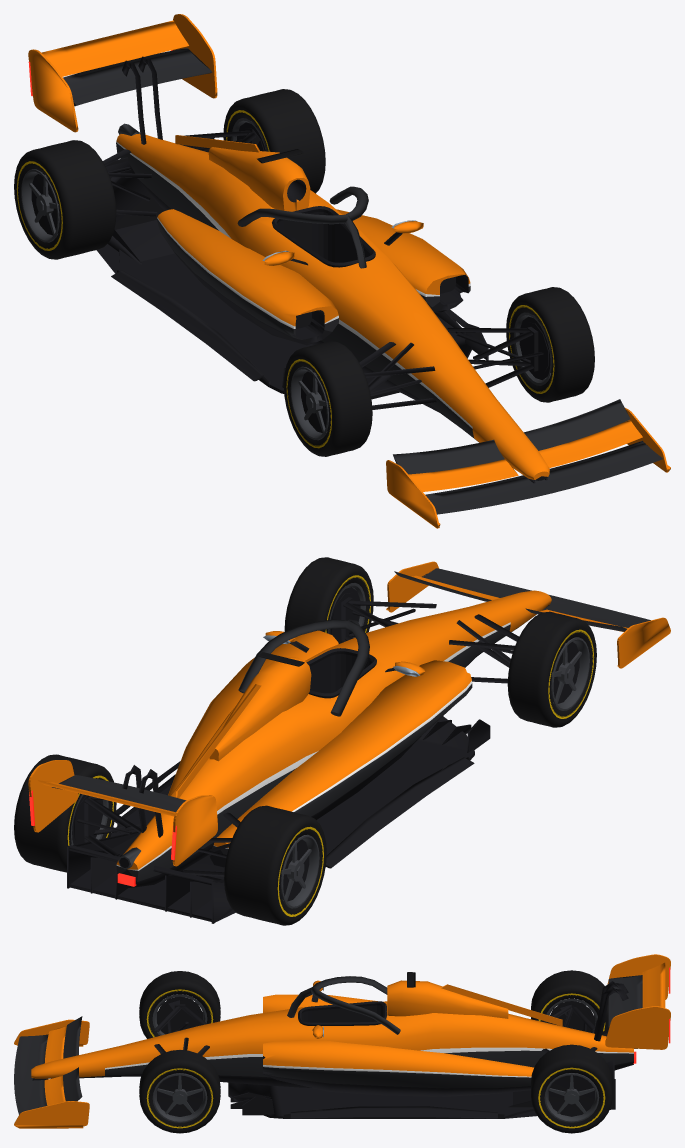
File: car_2026_lod1.glb
3 renders of one model, top to bottom at view 1: azimuth 30°, elevation 25°; view 2: azimuth 150°, elevation 25°; view 3: azimuth 270°, elevation 25°, orthographic. The views are drawn at different scales.
Visible parts, largest first — view 1: body, wheel_rr, wheel_fr, wheel_fl, wheel_rl; view 2: body, wheel_rr, wheel_fr, wheel_rl, wheel_fl; view 3: body, wheel_rl, wheel_fl, wheel_fr, wheel_rr.
Boxes of the visible parts, <box> form: body: <box>28,14,670,528</box>; wheel_rr: <box>14,140,116,259</box>; wheel_fr: <box>283,341,372,456</box>; wheel_fl: <box>506,287,594,402</box>; wheel_rl: <box>223,89,325,193</box>; body: <box>28,561,670,923</box>; wheel_rr: <box>224,805,326,925</box>; wheel_fr: <box>507,611,596,727</box>; wheel_rl: <box>14,754,116,872</box>; wheel_fl: <box>284,557,373,637</box>; body: <box>14,954,670,1128</box>; wheel_rl: <box>531,1044,612,1133</box>; wheel_fl: <box>139,1050,220,1133</box>; wheel_fr: <box>139,971,220,1038</box>; wheel_rr: <box>531,970,608,1033</box>.
Size of the model in its own units: 1.9 by 1.05 by 5.7.
